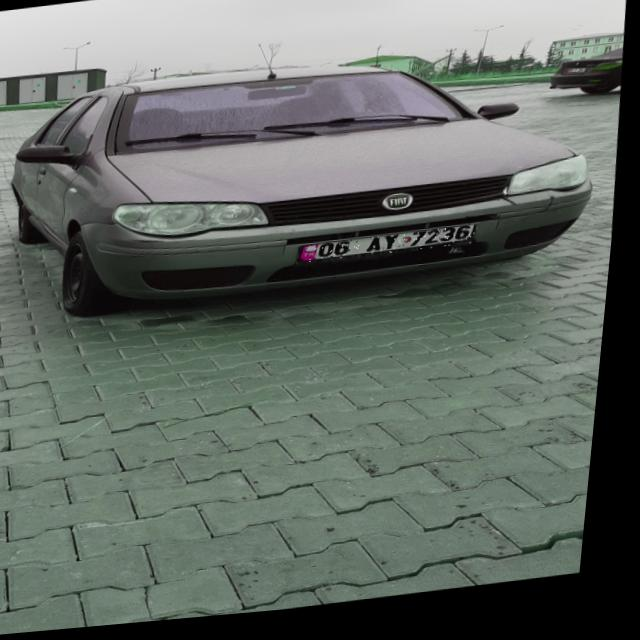license_plate: (302, 234, 482, 270)
